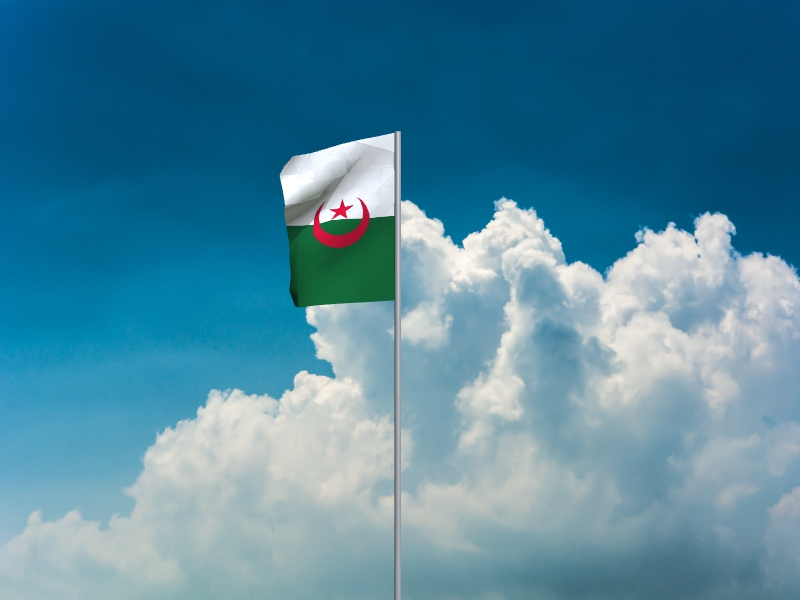dz: (279, 134, 395, 309)
